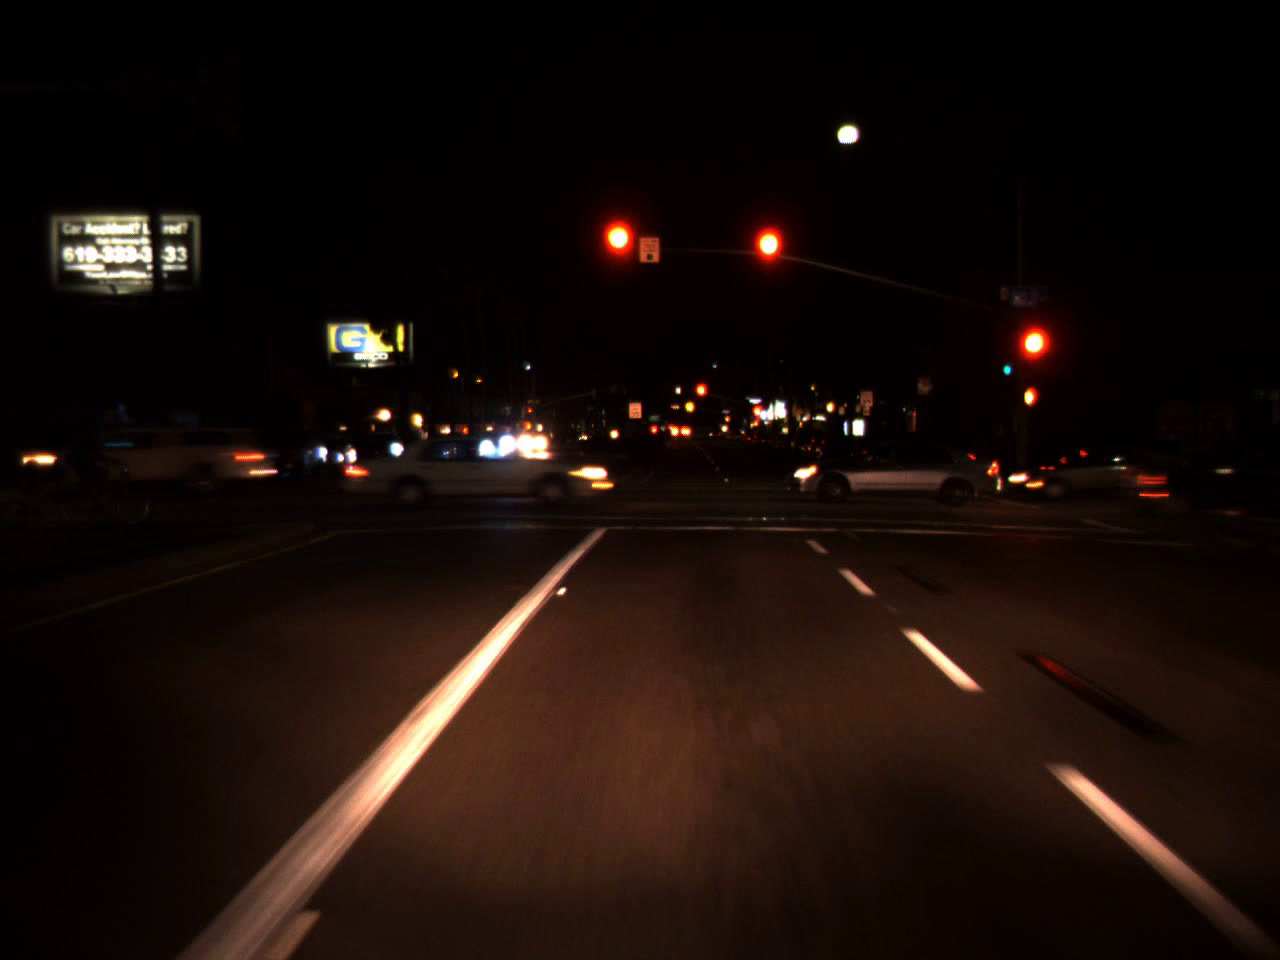stop: (749, 225, 786, 303), (600, 220, 637, 295), (1022, 330, 1043, 375), (694, 381, 707, 413), (752, 406, 761, 422), (527, 407, 533, 417)
warning: (684, 394, 694, 419), (725, 413, 731, 423)
